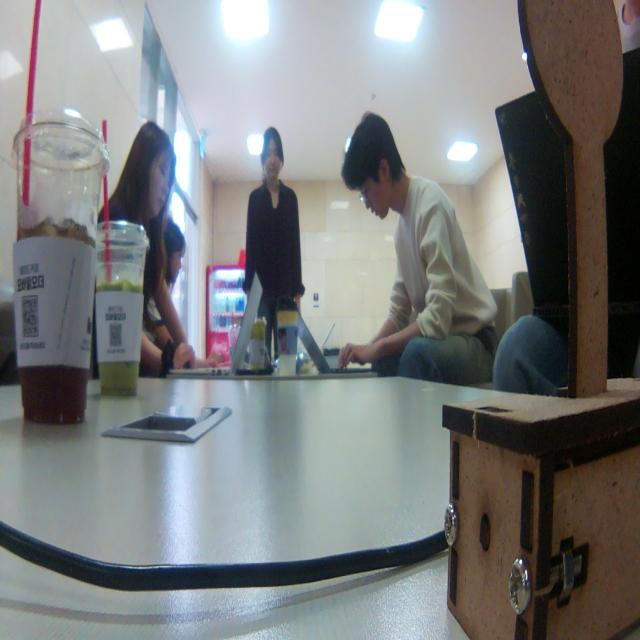target: (441, 1, 640, 640)
